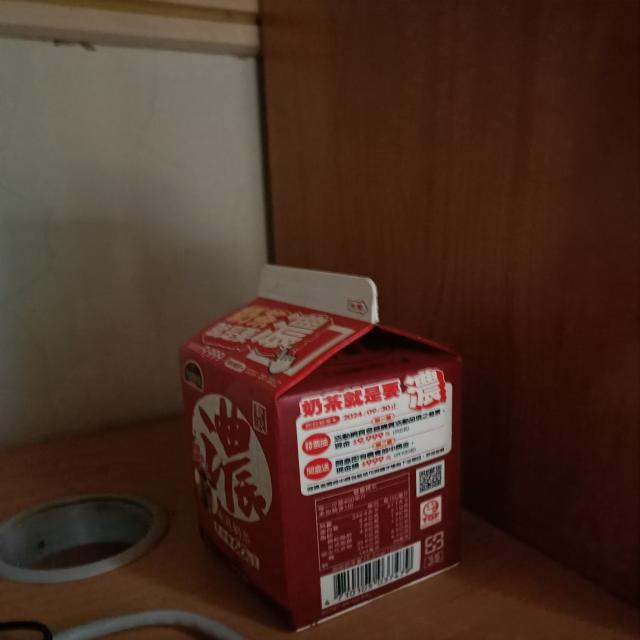Known_MilkTea: (174, 265, 474, 636)
